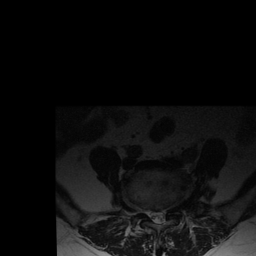CCS_stenosis: (155, 204, 160, 226)
LFS_stenosis: (166, 199, 173, 214)
LLS_normal: (160, 205, 166, 226)
RFS_stenosis: (141, 201, 148, 220)
RLS_normal: (148, 204, 155, 224)
